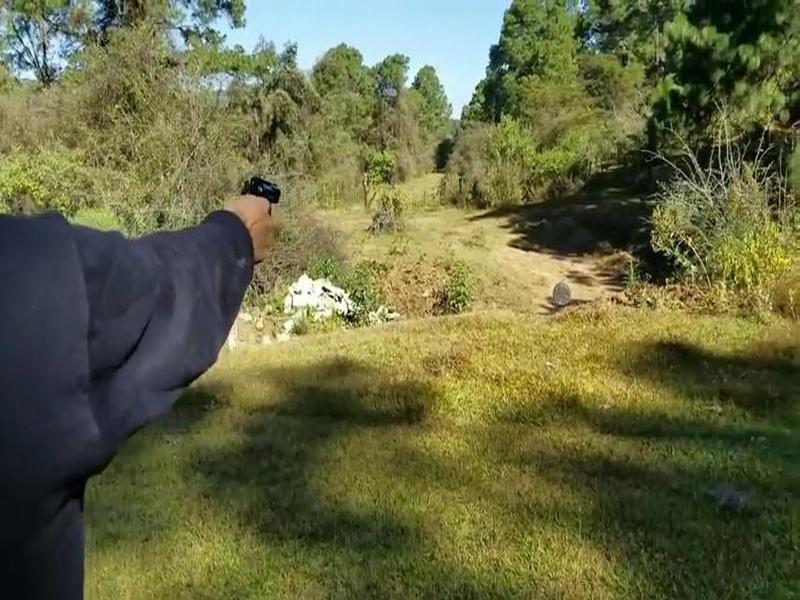Revolver: (227, 162, 302, 219)
